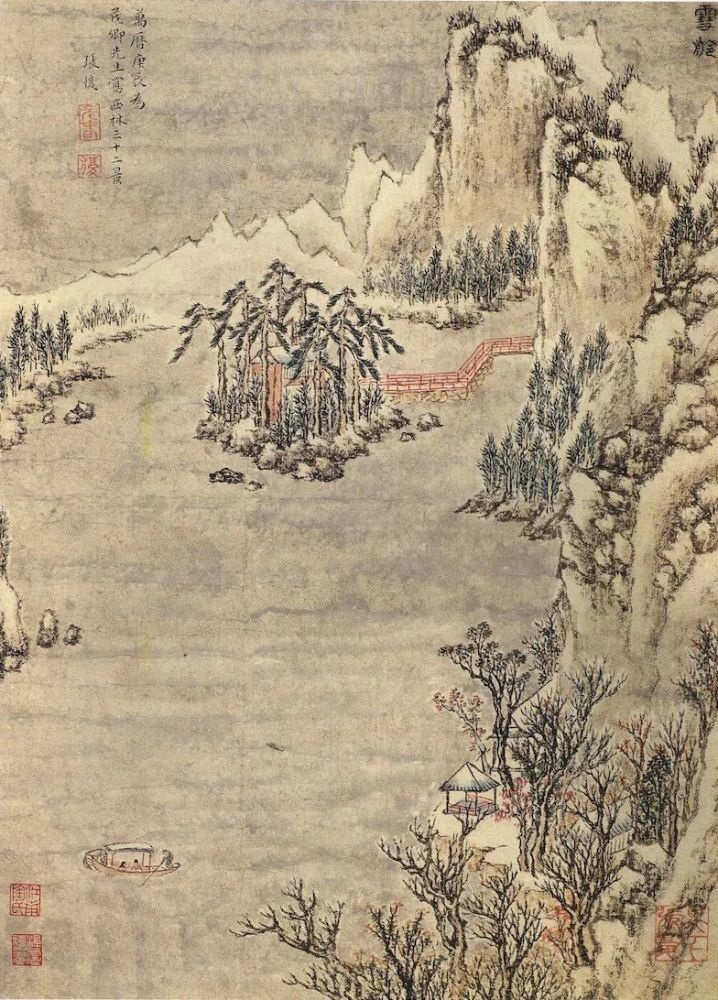boat: (81, 845, 183, 881)
booth: (447, 769, 495, 811)
bridge: (384, 369, 492, 408), (470, 342, 531, 362)
house: (577, 811, 641, 845), (266, 349, 295, 416)
mountain: (596, 206, 718, 676), (464, 17, 677, 239), (24, 176, 424, 285)
river: (21, 462, 411, 806), (9, 895, 232, 985), (427, 496, 544, 616), (196, 818, 381, 885), (110, 349, 202, 466), (418, 644, 463, 769), (398, 410, 482, 460)
tree: (266, 904, 545, 1000), (479, 655, 575, 865), (205, 279, 384, 350), (546, 842, 611, 966), (408, 243, 535, 297), (492, 448, 584, 508), (407, 822, 477, 895), (645, 738, 687, 858), (529, 355, 583, 447), (328, 344, 373, 419), (17, 310, 77, 360), (216, 349, 249, 422), (300, 352, 323, 443), (558, 326, 606, 348), (695, 691, 708, 722)
